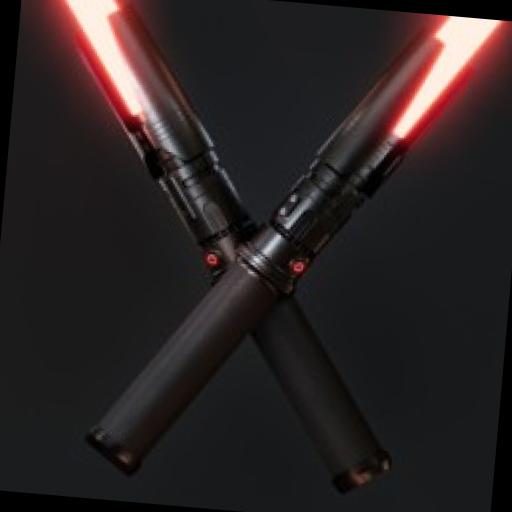sith saber: (80, 0, 505, 505), (10, 0, 434, 499)
